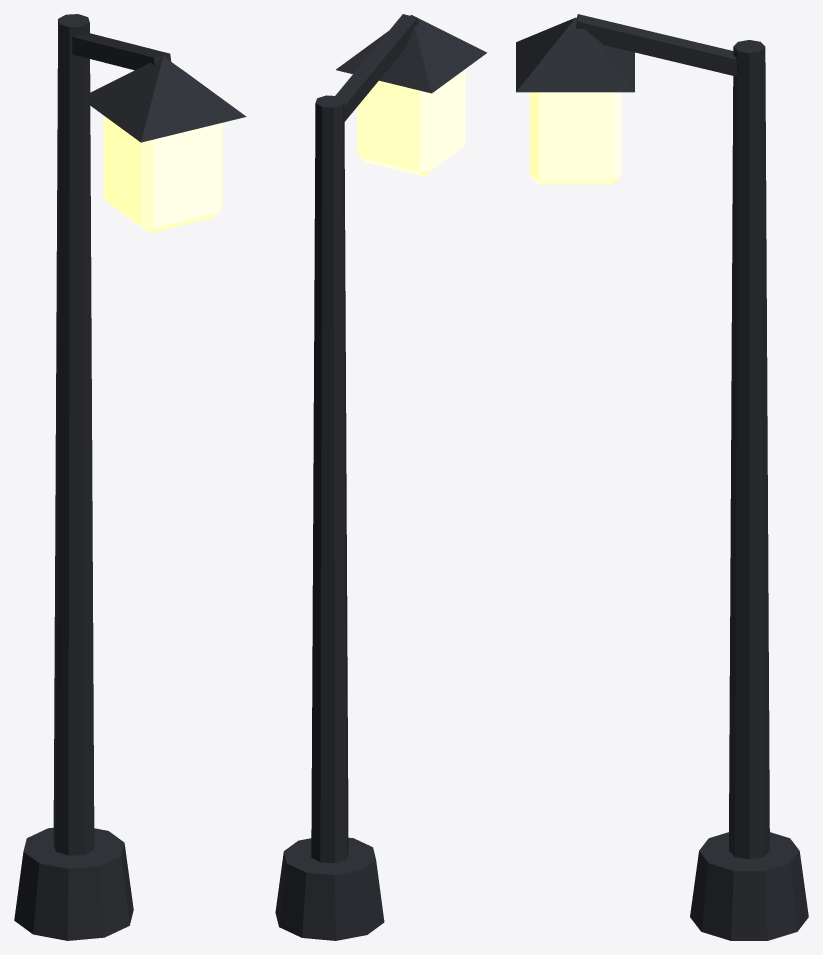
File: lamp_post.glb
The picture shows the model from 3 angles, left to right: view 1: azimuth 30°, elevation 25°; view 2: azimuth 150°, elevation 25°; view 3: azimuth 270°, elevation 25°; orthographic projection. The views are drawn at different scales.
Visible parts, largest first — view 1: lamp; view 2: lamp; view 3: lamp.
Boxes of the visible parts, x1,y1,x2,y2 form: lamp: (14, 14, 246, 940); lamp: (275, 14, 486, 940); lamp: (516, 14, 808, 940).
Size of the model in its own units: 0.26 by 2.17 by 0.64.
